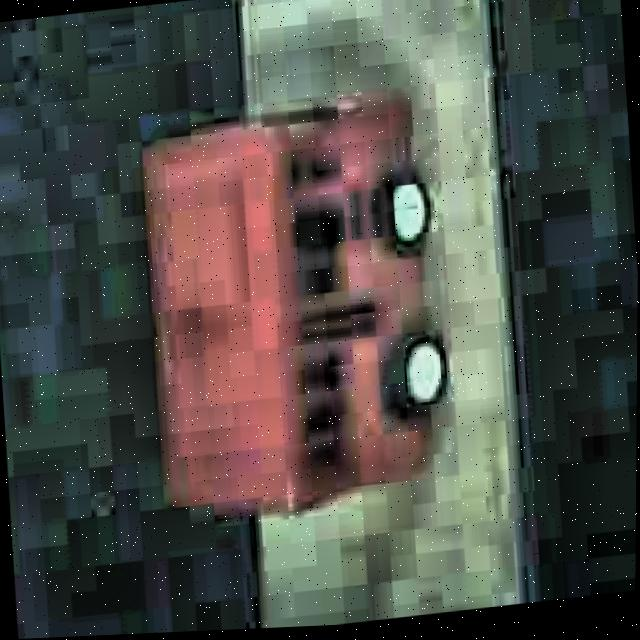bus: (126, 80, 461, 532)
